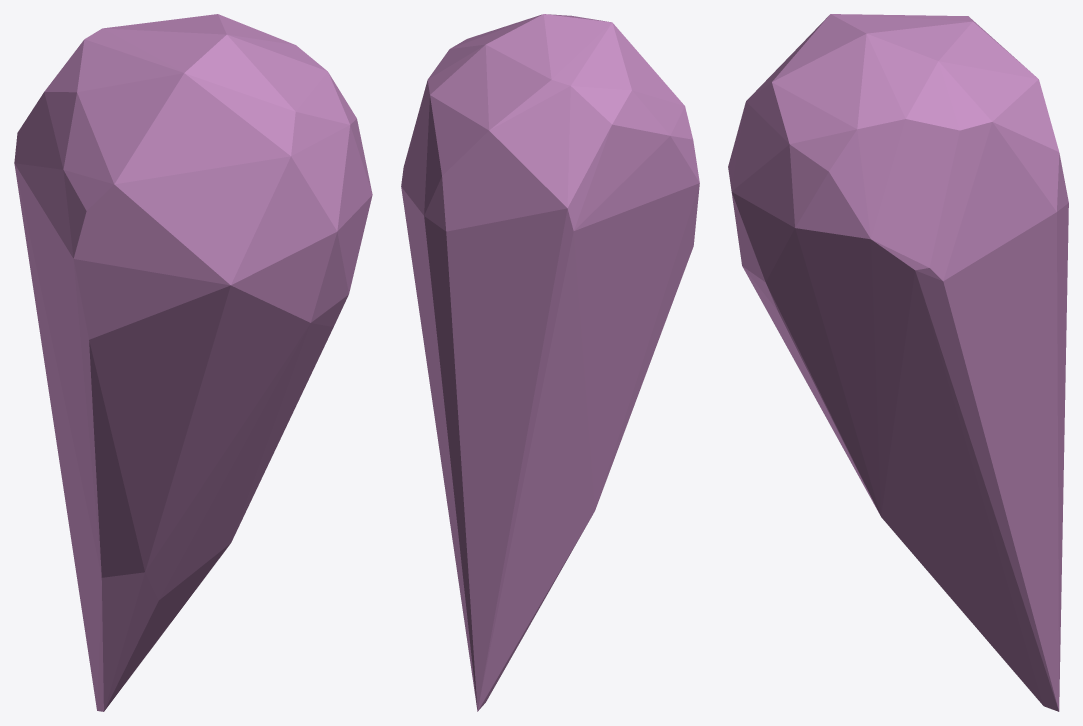
Rendered from food_produce_pear_c01.glb.
3 renders of one model, left to right at view 1: azimuth 30°, elevation 25°; view 2: azimuth 150°, elevation 25°; view 3: azimuth 270°, elevation 25°, orthographic. The views are drawn at different scales.
Visible parts, largest first — view 1: geometry_0; view 2: geometry_0; view 3: geometry_0.
Part boxes in pixels (left/top/right/bottom): geometry_0: left=14, top=14, right=372, bottom=711; geometry_0: left=401, top=14, right=699, bottom=711; geometry_0: left=728, top=14, right=1068, bottom=711.
Size of the model in its own units: 0.2028 by 0.4779 by 0.214.
